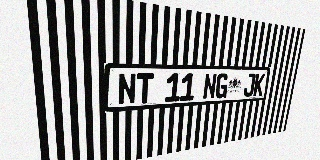1: (165, 73, 181, 102), (180, 73, 196, 101)
G: (215, 73, 229, 99)
J: (243, 73, 256, 97)
K: (253, 73, 265, 96)
N: (118, 73, 136, 105), (202, 73, 217, 100)
T: (136, 73, 154, 104)
